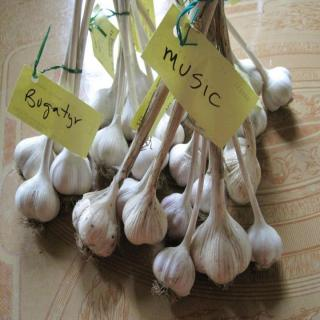Bawang Putih: (23, 35, 306, 287)
